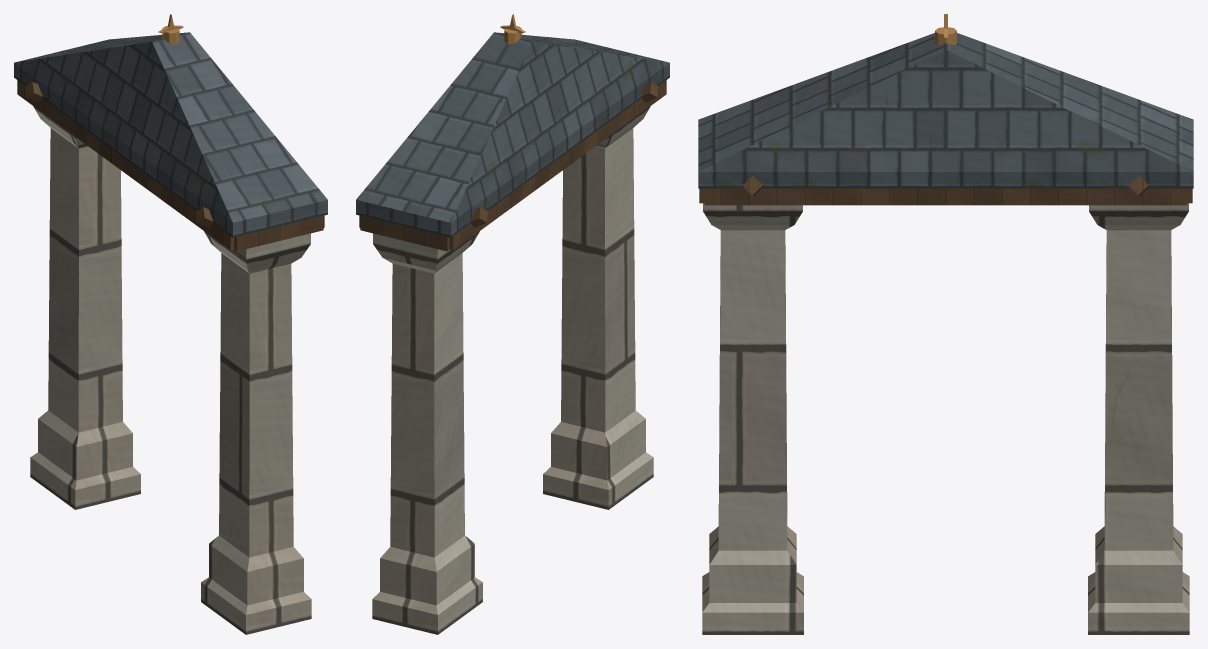
Rendered from Furn_Walkway2_Joint.fbx.
3 views of the same model, side by side, from view 1: azimuth 30°, elevation 25°; view 2: azimuth 150°, elevation 25°; view 3: azimuth 270°, elevation 25° (orthographic). The views are drawn at different scales.
Visible parts, largest first — view 1: Furn_Walkway2_Joint_Mesh; view 2: Furn_Walkway2_Joint_Mesh; view 3: Furn_Walkway2_Joint_Mesh.
Part boxes in pixels (<box>): Furn_Walkway2_Joint_Mesh: <box>14,14,327,634</box>; Furn_Walkway2_Joint_Mesh: <box>356,14,669,634</box>; Furn_Walkway2_Joint_Mesh: <box>698,14,1193,634</box>.
Bounding box in the file's own units: 1 × 4.3 × 3.2.
4 materials, 3 textured.
